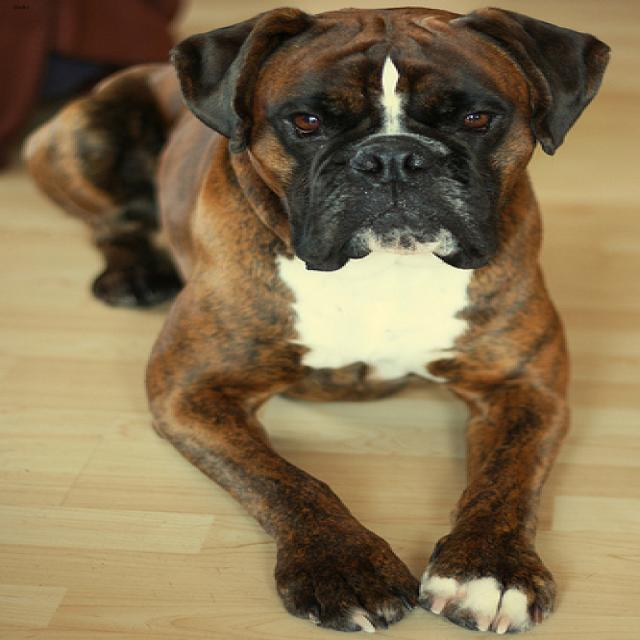dog-boxer: (8, 1, 636, 637)
